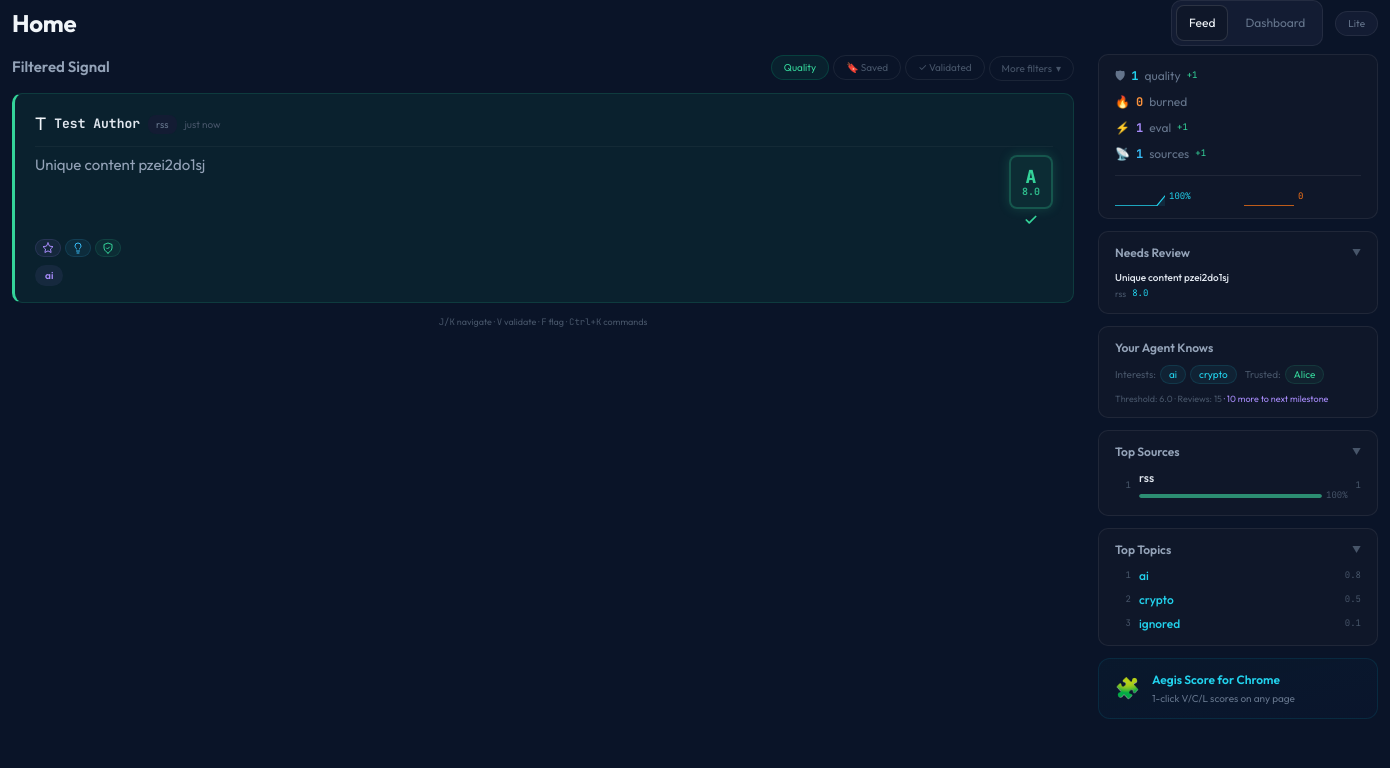
Scenario: More Filters dropdown › closes dropdown on Escape key
The image size is (1390, 768).
Click the button with test id "aegis-filter-more" at (1031, 68), box [989,56,1074,81]
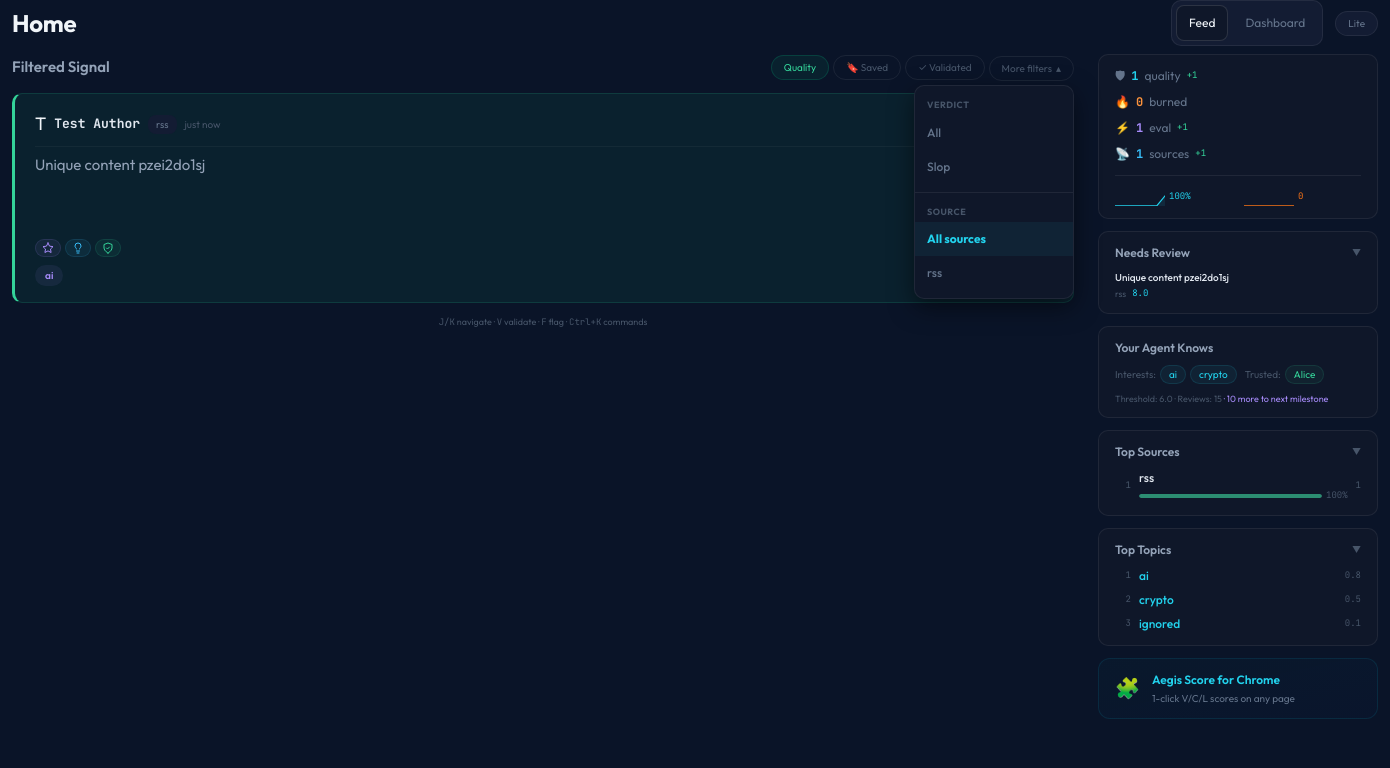
Check: the menu with test id "aegis-filter-more-panel" is shown, box [914,85,1074,299]
Press Escape
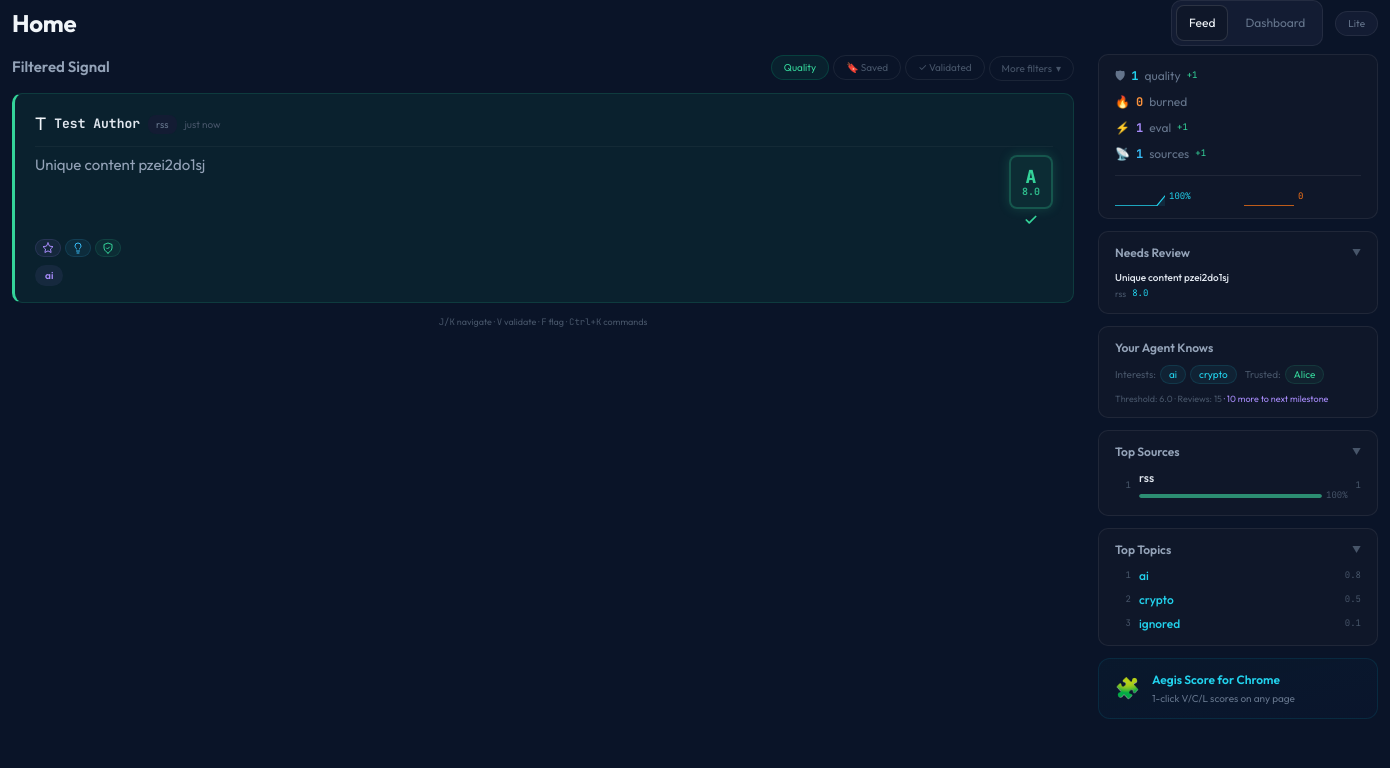
Check: the menu with test id "aegis-filter-more-panel" is gone
